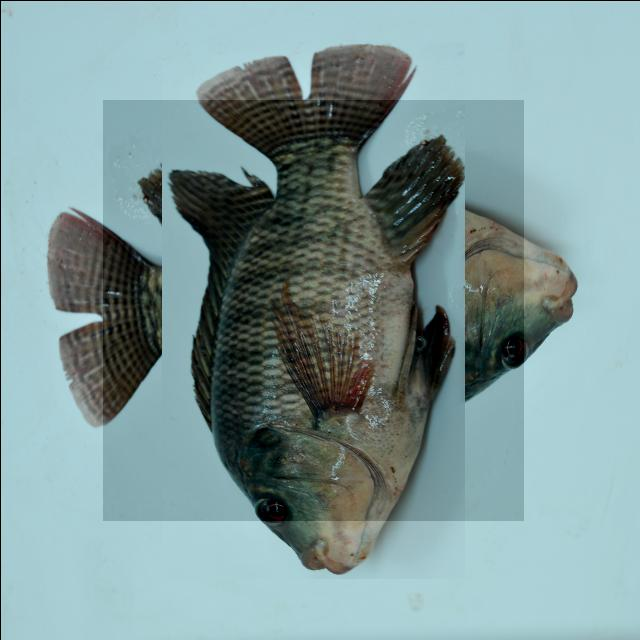Healthy Fish: (102, 99, 523, 520)
